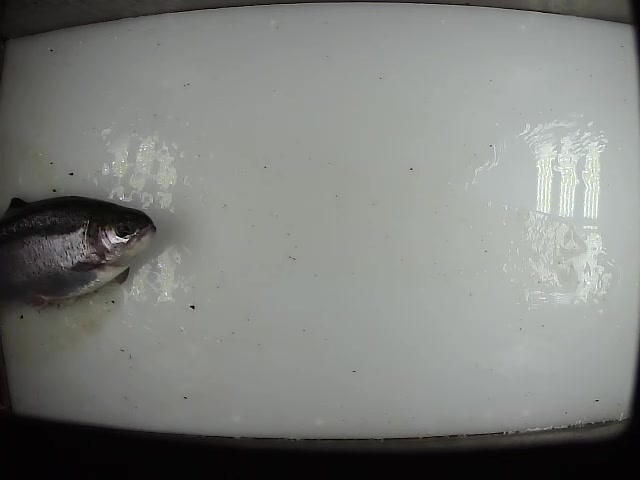fish: (1, 193, 158, 309)
